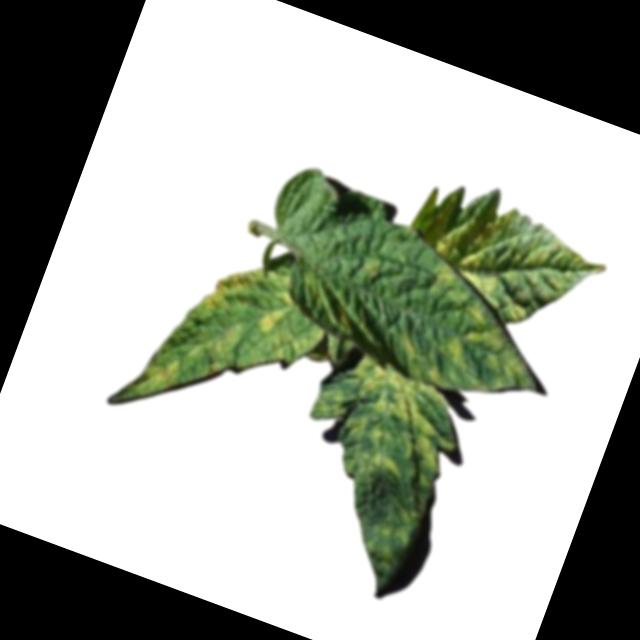Leaf_Mold: (395, 170, 613, 340), (297, 342, 480, 500), (392, 284, 566, 421), (132, 301, 257, 427), (193, 250, 272, 334), (252, 283, 306, 352)
